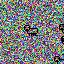sheep: (23, 25, 39, 36), (54, 56, 64, 64)
